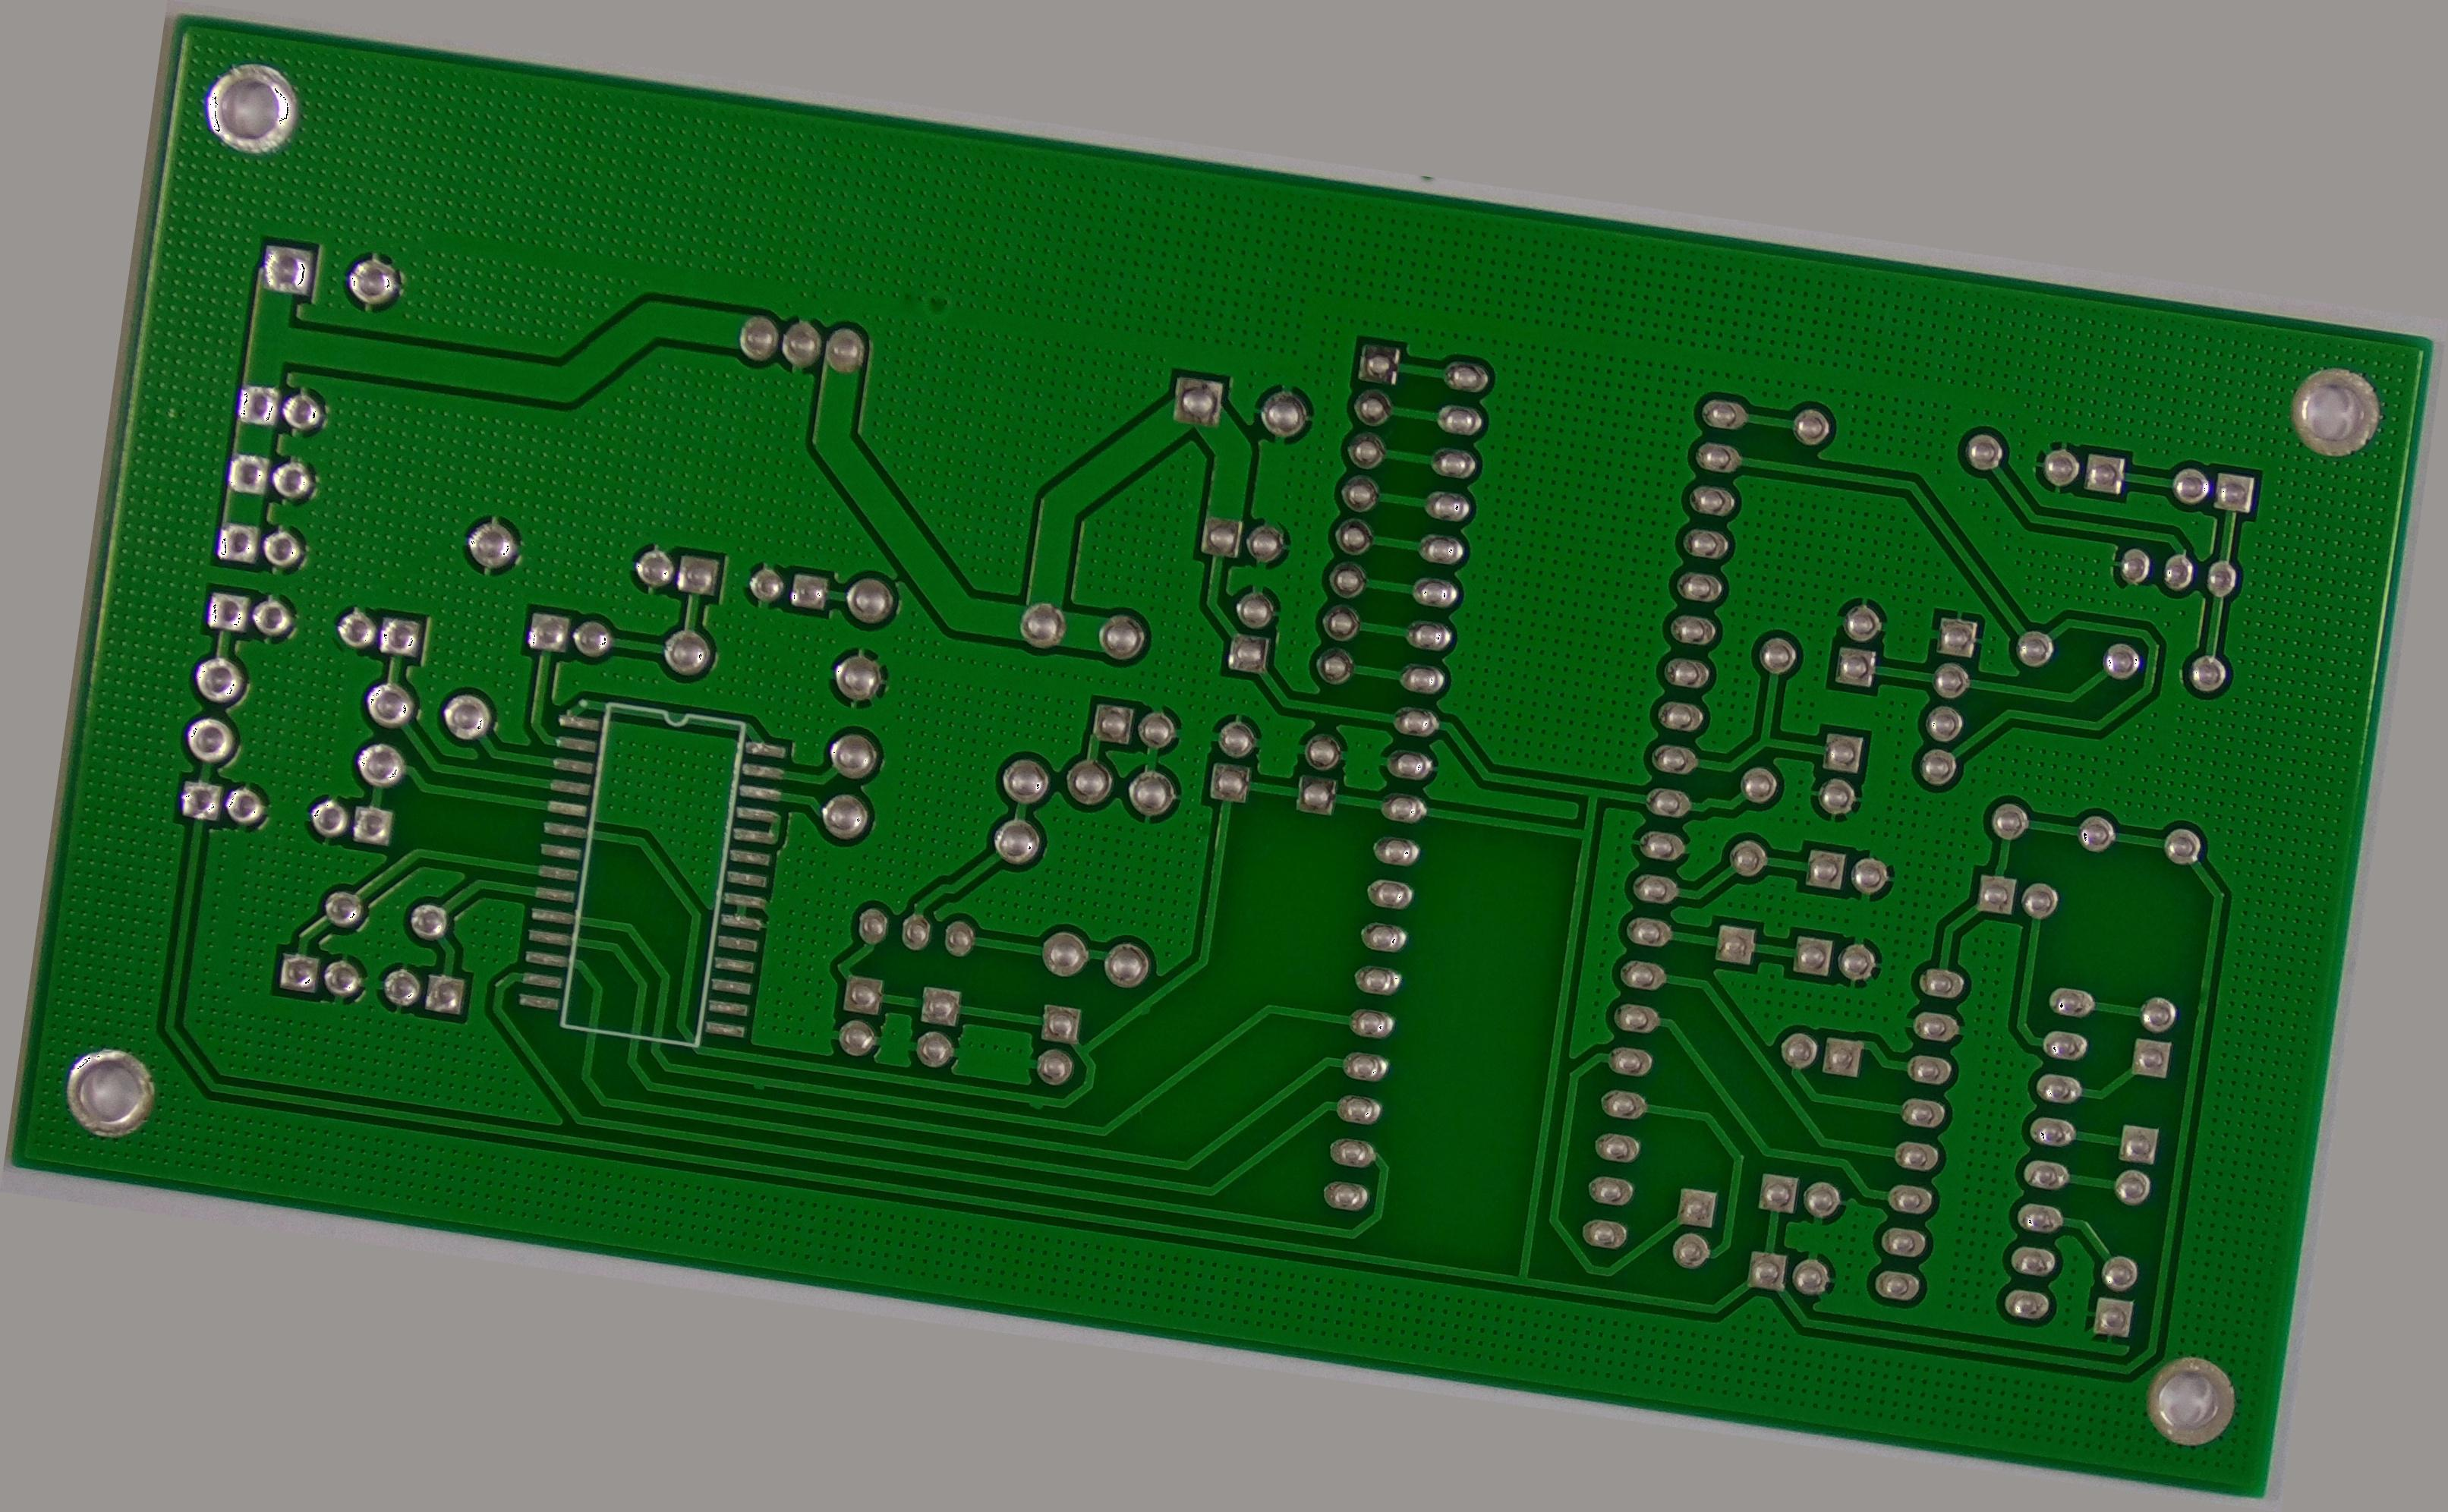spur: (1021, 1087, 1051, 1115), (743, 1070, 771, 1098), (1130, 996, 1156, 1023)
